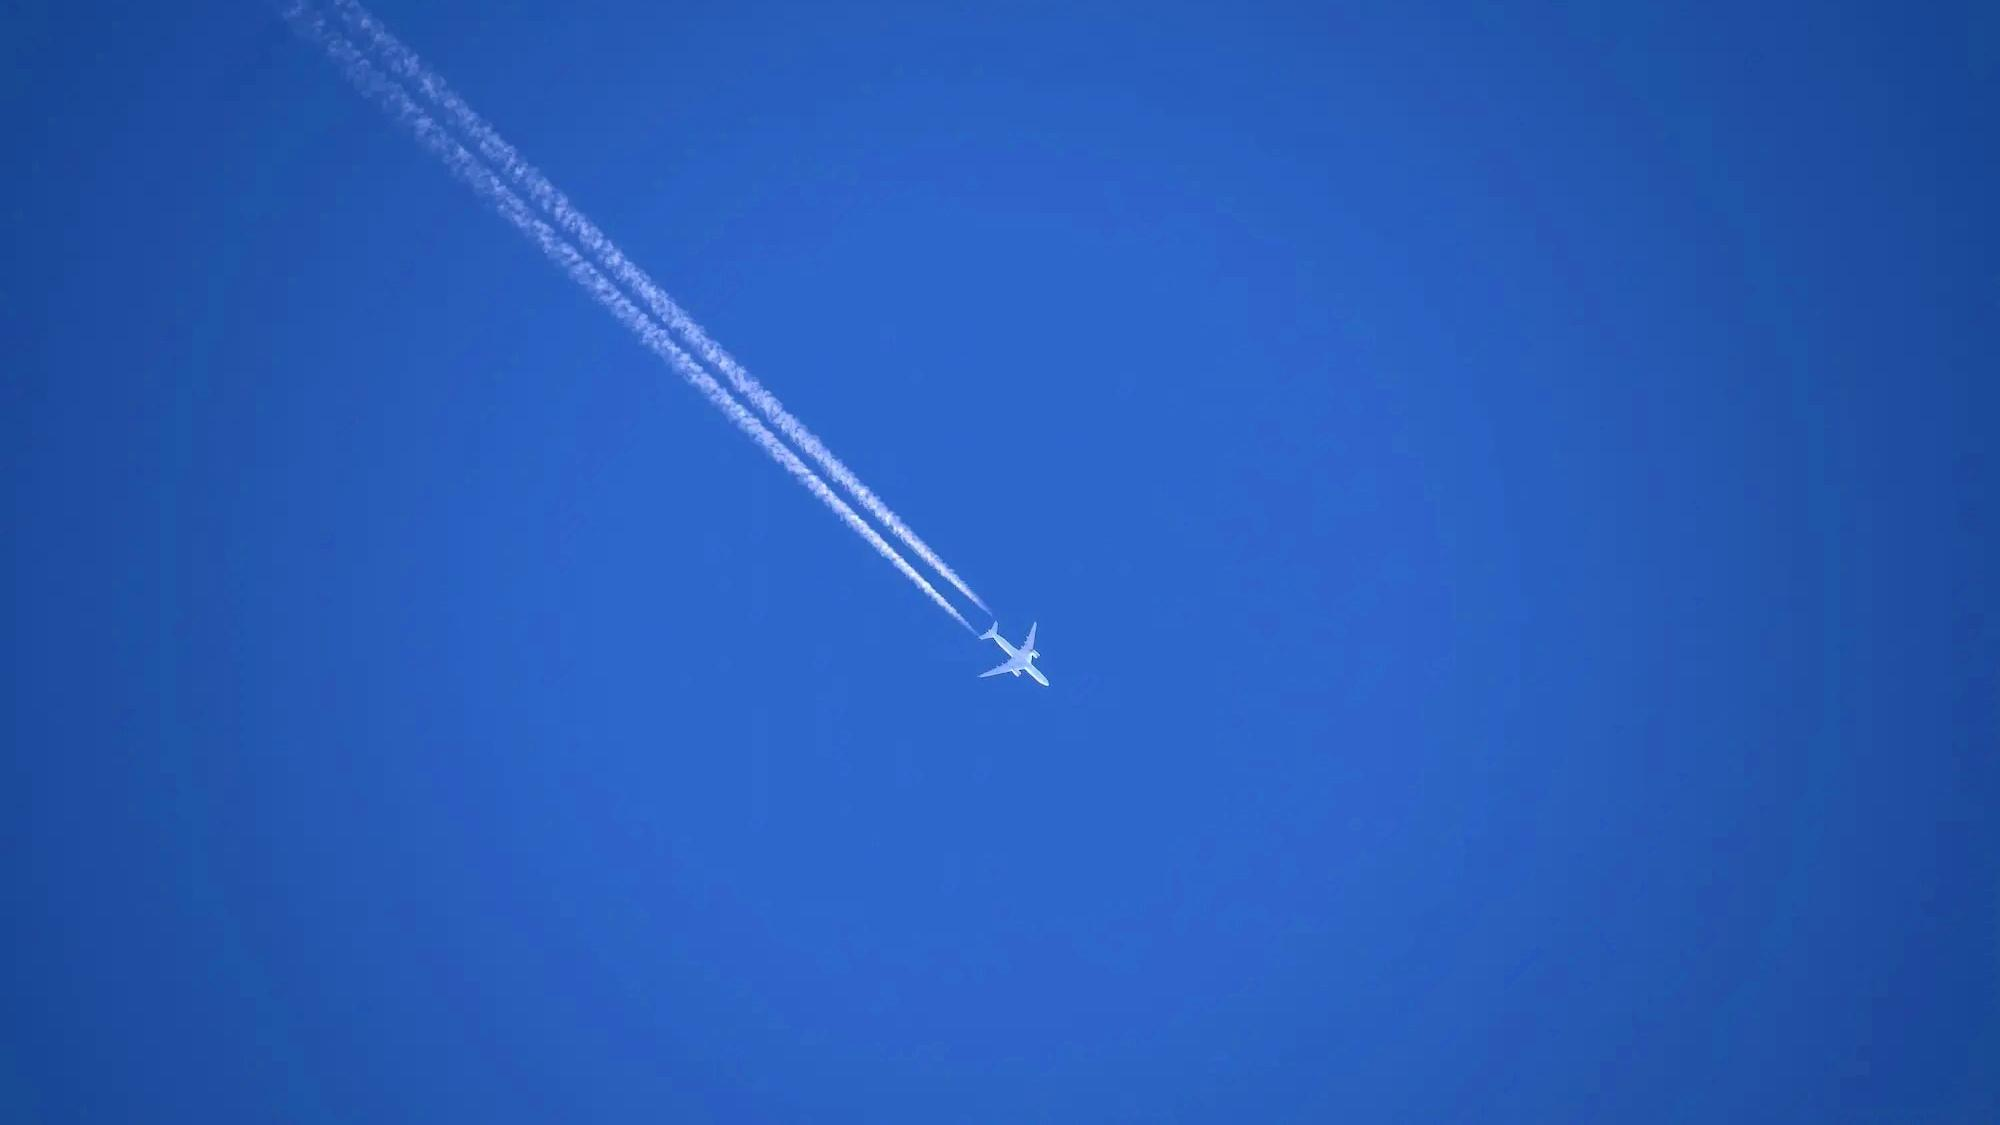Plane: (537, 235, 1130, 690)
